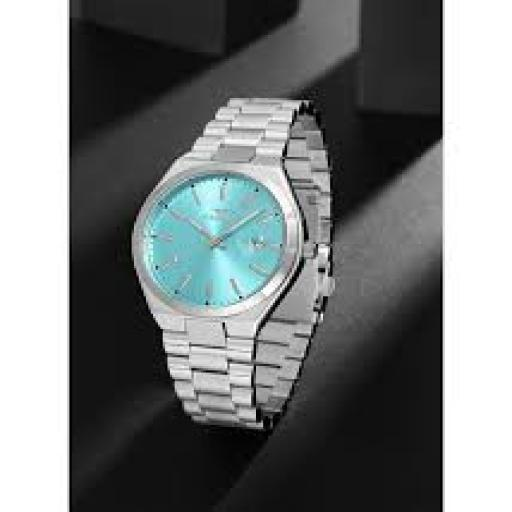KolSaati: (116, 44, 376, 466)
